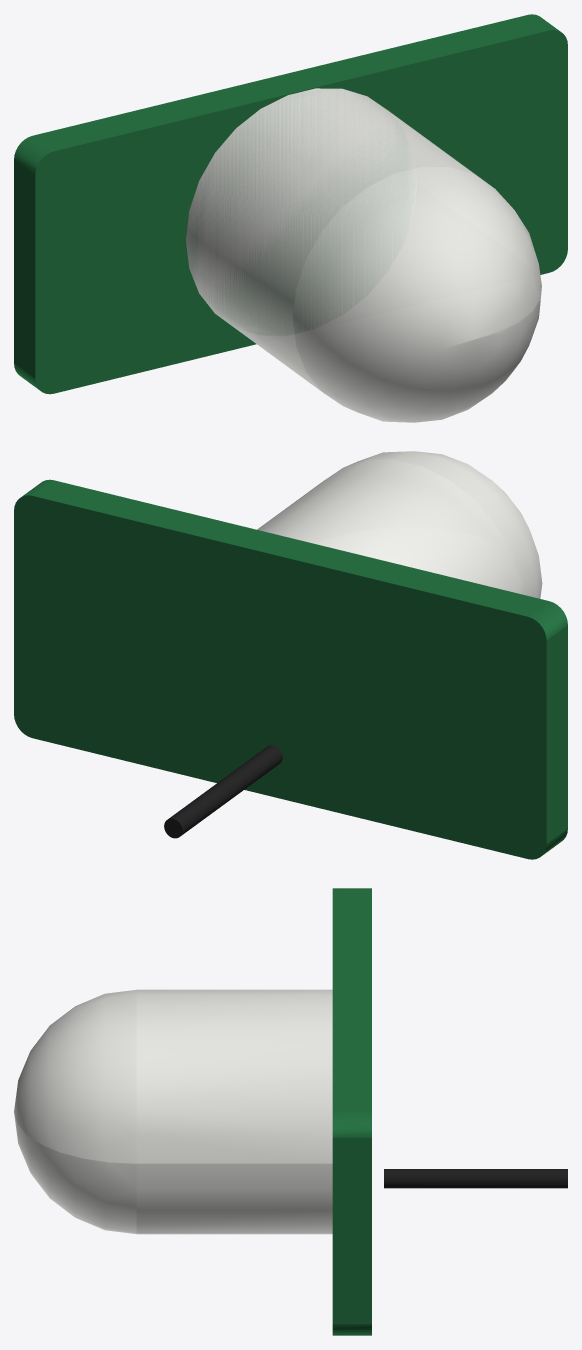
Rendered from pir-hcsr505-bb.glb.
3 views of the same model, one above another, from view 1: azimuth 30°, elevation 25°; view 2: azimuth 150°, elevation 25°; view 3: azimuth 270°, elevation 25° (orthographic). The views are drawn at different scales.
Parts seen in each view (by area): view 1: dome_1, board; view 2: board, dome_1, wire_2; view 3: dome_1, board, wire_2.
Boxes of the visible parts, left/top/right/bottom form: dome_1: left=186, top=88, right=541, bottom=422; board: left=14, top=14, right=567, bottom=394; board: left=14, top=479, right=567, bottom=859; dome_1: left=257, top=451, right=542, bottom=598; wire_2: left=164, top=745, right=282, bottom=838; dome_1: left=14, top=989, right=332, bottom=1234; board: left=332, top=888, right=371, bottom=1335; wire_2: left=384, top=1169, right=567, bottom=1188.
Bounding box in the file's own units: 23 × 10 × 22.6.
